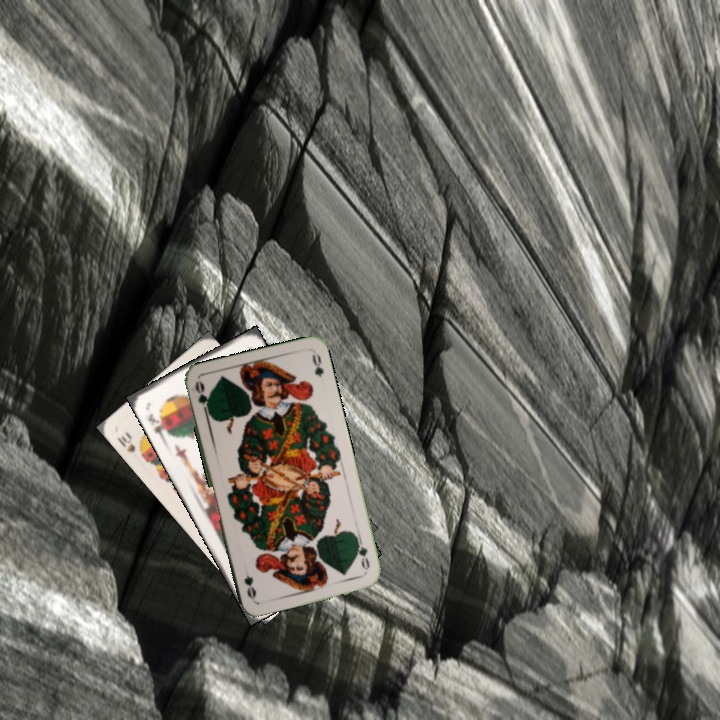GO: (191, 378, 213, 418), (353, 533, 372, 572)
S10: (113, 428, 147, 459)
SK: (144, 410, 172, 440)
